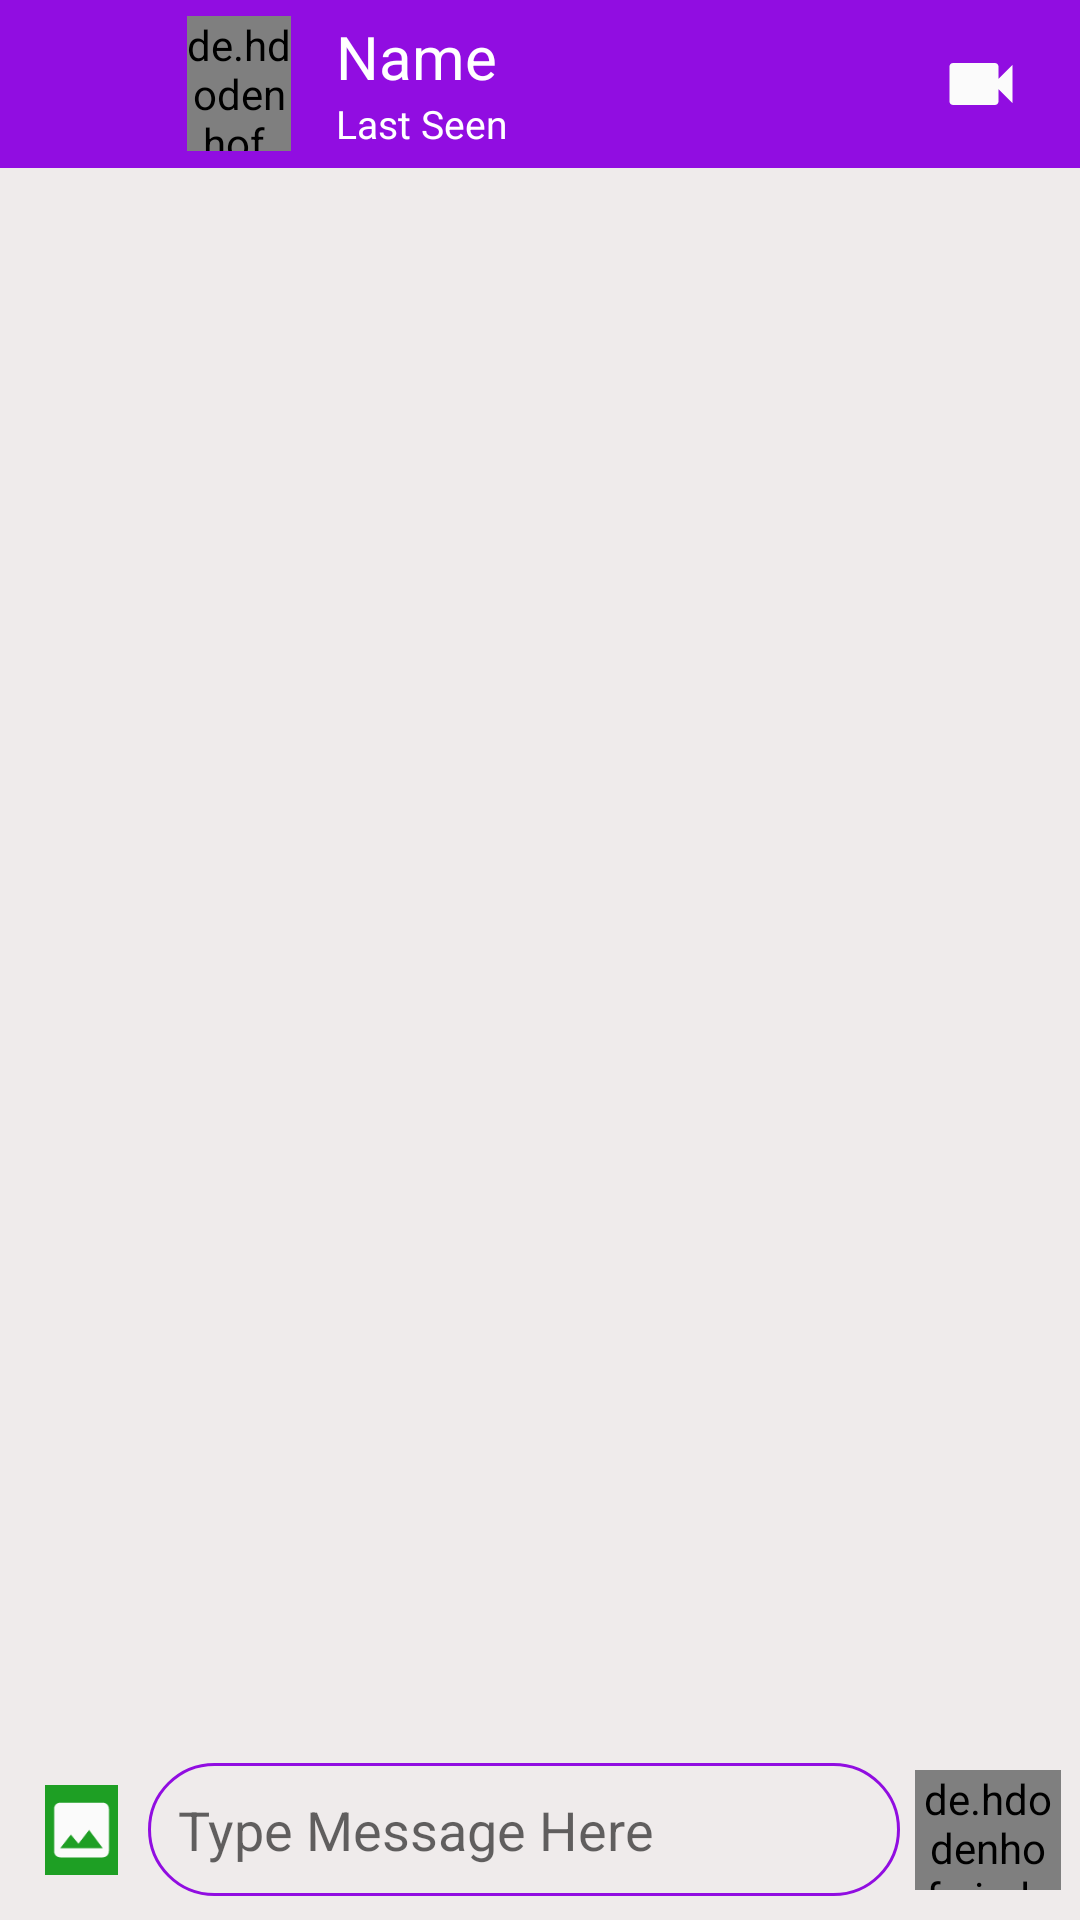

Where icons sit on this 1080×1920 app screen, as (x1, y1, x2, y2):
videocall: (949, 63, 1013, 105)
